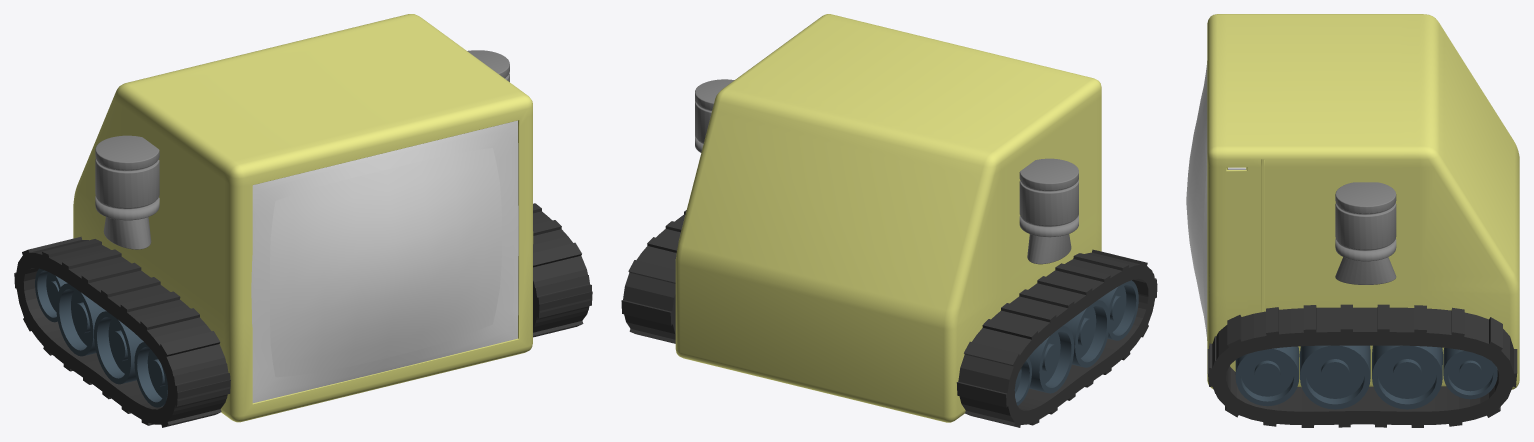
File: ComputerBot_mesh.fbx
3 renders of one model, left to right at view 1: azimuth 30°, elevation 25°; view 2: azimuth 150°, elevation 25°; view 3: azimuth 270°, elevation 25°, orthographic. The views are drawn at different scales.
Visible parts, largest first — view 1: Robot, Tread.001, Gears.001, Jetpack.001, Tread, Jetpack; view 2: Robot, Tread.001, Gears.001, Jetpack.001, Tread, Jetpack; view 3: Robot, Tread, Gears, Jetpack.
Boxes of the visible parts, left/top/right/bottom form: Robot: left=73, top=14, right=533, bottom=422; Tread.001: left=14, top=236, right=230, bottom=427; Gears.001: left=35, top=268, right=167, bottom=407; Jetpack.001: left=95, top=135, right=159, bottom=249; Tread: left=533, top=203, right=592, bottom=337; Jetpack: left=467, top=50, right=509, bottom=81; Robot: left=675, top=14, right=1101, bottom=422; Tread.001: left=956, top=249, right=1157, bottom=427; Gears.001: left=1014, top=280, right=1138, bottom=405; Jetpack.001: left=1019, top=158, right=1078, bottom=264; Tread: left=621, top=210, right=686, bottom=343; Jetpack: left=695, top=79, right=734, bottom=152; Robot: left=1186, top=14, right=1519, bottom=389; Tread: left=1207, top=304, right=1517, bottom=427; Gears: left=1235, top=345, right=1497, bottom=409; Jetpack: left=1335, top=182, right=1396, bottom=284.
Bounding box in the file's own units: 313 × 192 × 230.
